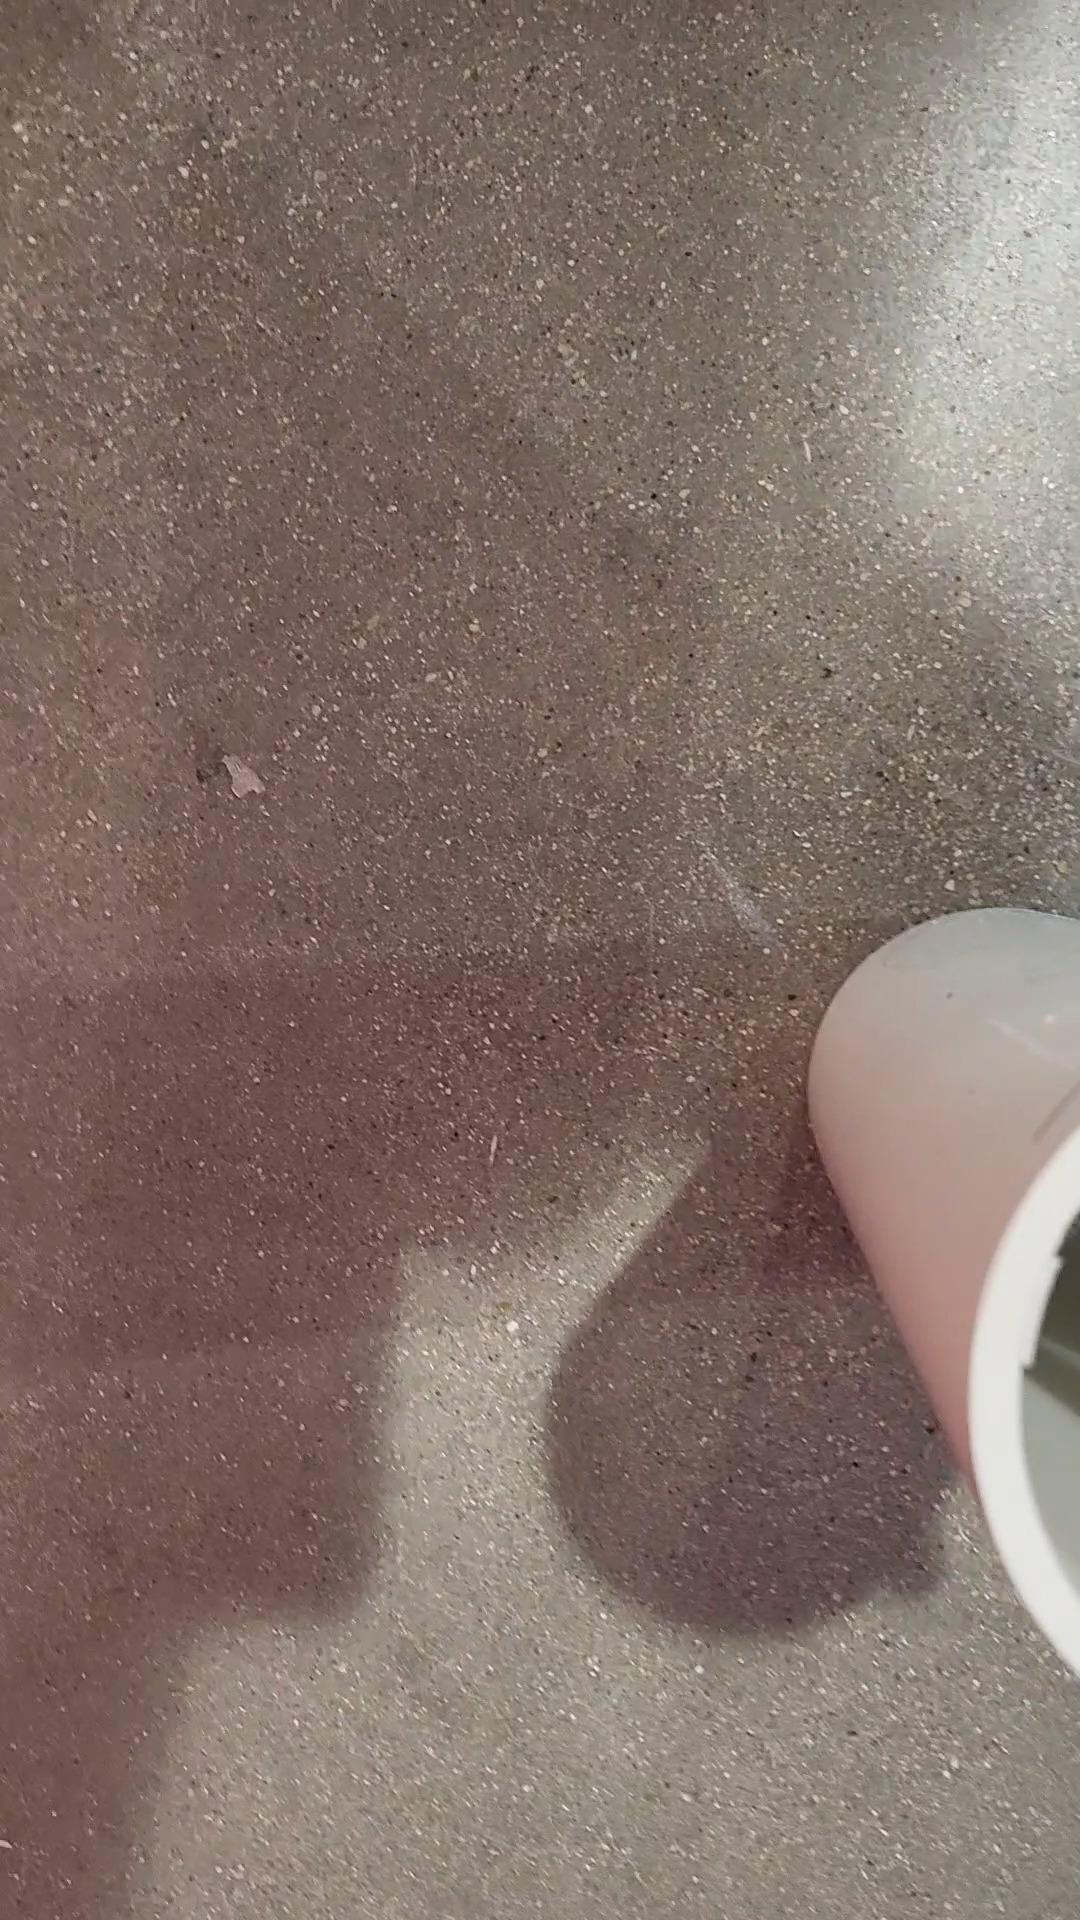coral: (800, 893, 1080, 1681)
